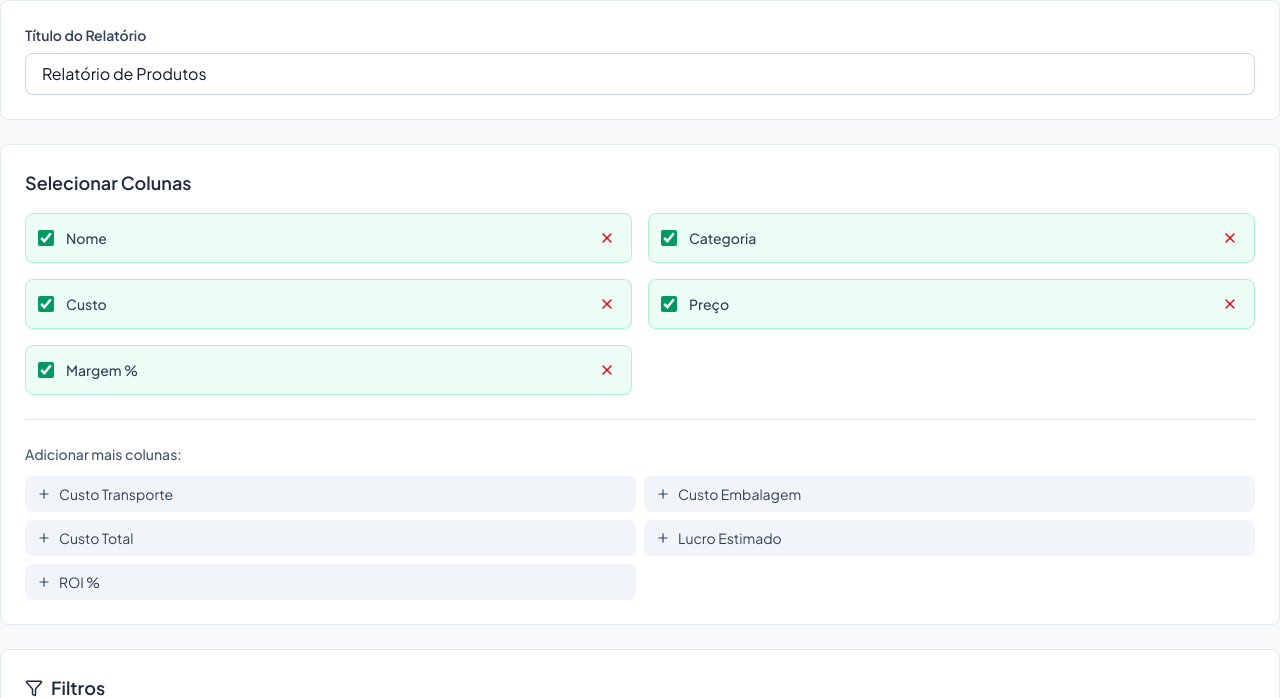
Scenario: ReportBuilder › Remove Column › should remove column when X button clicked
Click the button titled "Remover coluna" in the row of "Nome" at (607, 238), box x1=595 y1=226 x2=619 y2=250
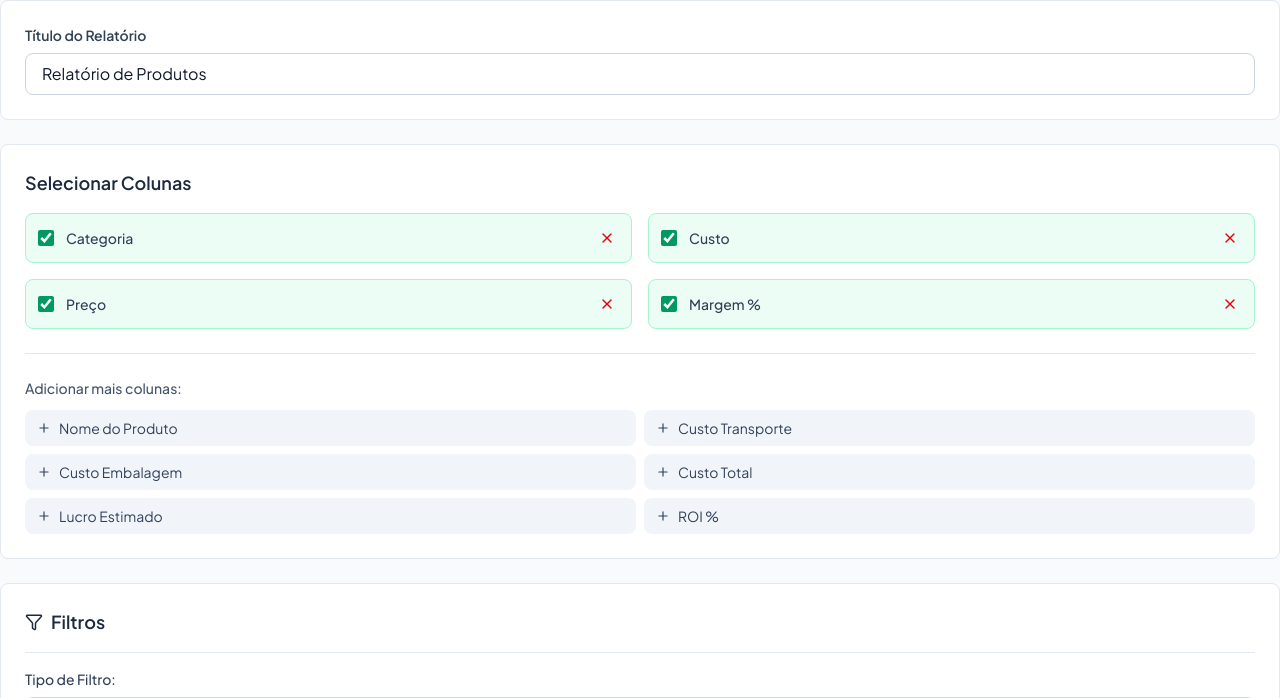
Expected: the number of buttons titled "Remover coluna" is 4, x1=595 y1=226 x2=619 y2=250; x1=1218 y1=226 x2=1242 y2=250; x1=595 y1=292 x2=619 y2=316; x1=1218 y1=292 x2=1242 y2=316
